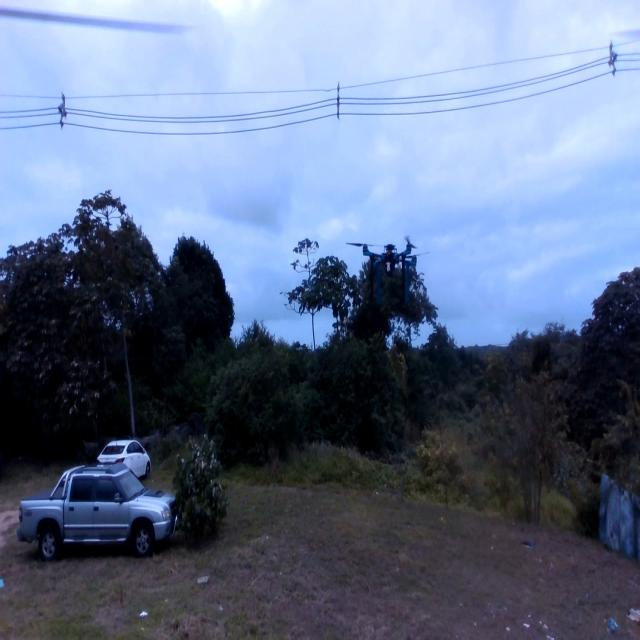-uav-: (345, 231, 430, 307)
